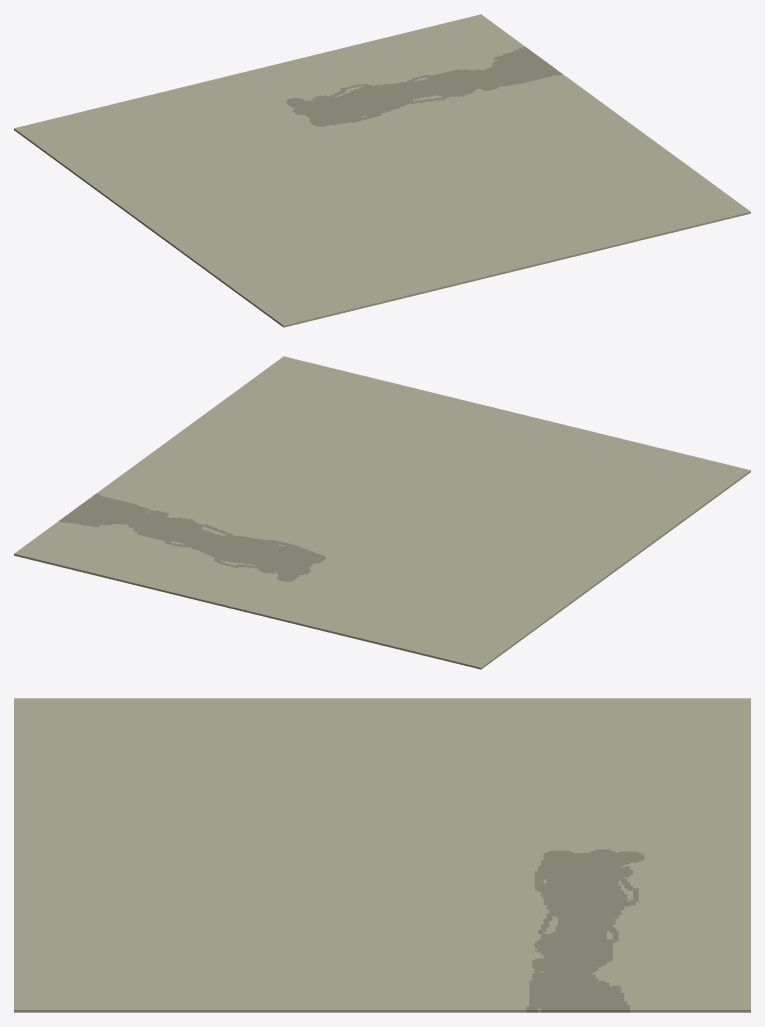
File: forest1.3-10.obj
3 views of the same model, one above another, from view 1: azimuth 30°, elevation 25°; view 2: azimuth 150°, elevation 25°; view 3: azimuth 270°, elevation 25° (orthographic). The views are drawn at different scales.
Bounding box in the file's own units: 25.6 × 0.1 × 25.6.
1 material, 1 textured.
